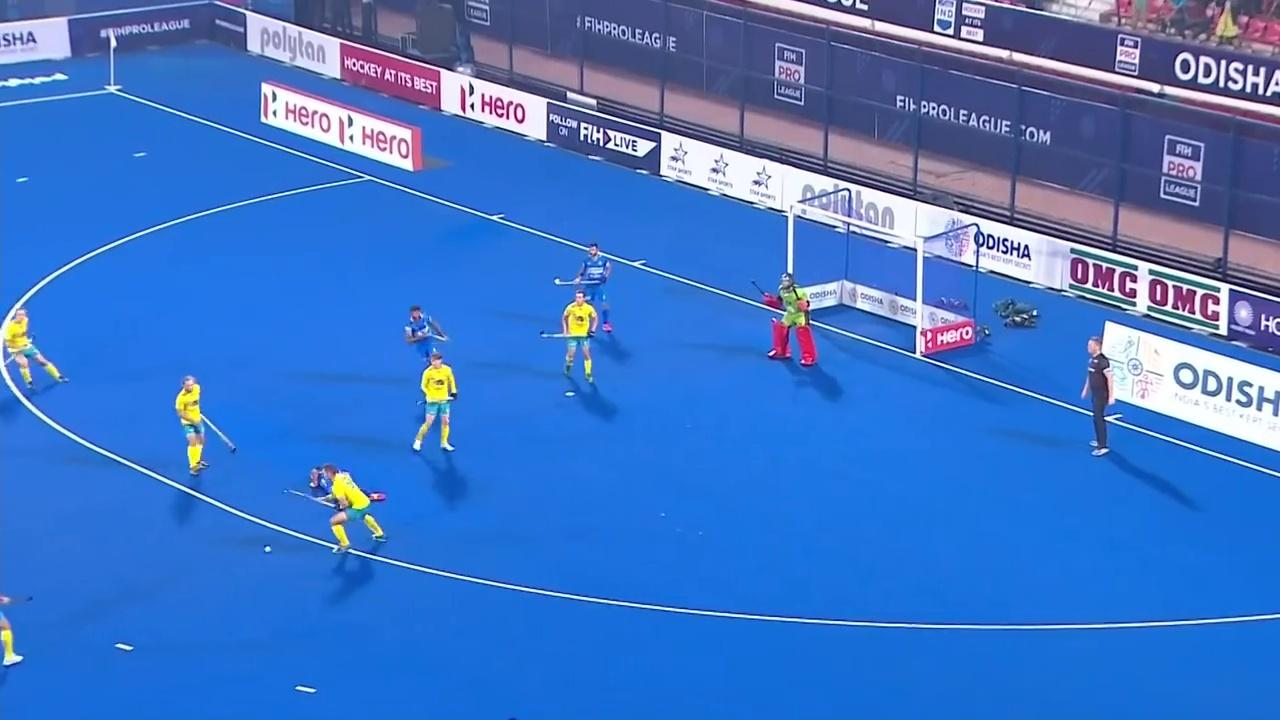ball: (260, 543, 275, 554)
